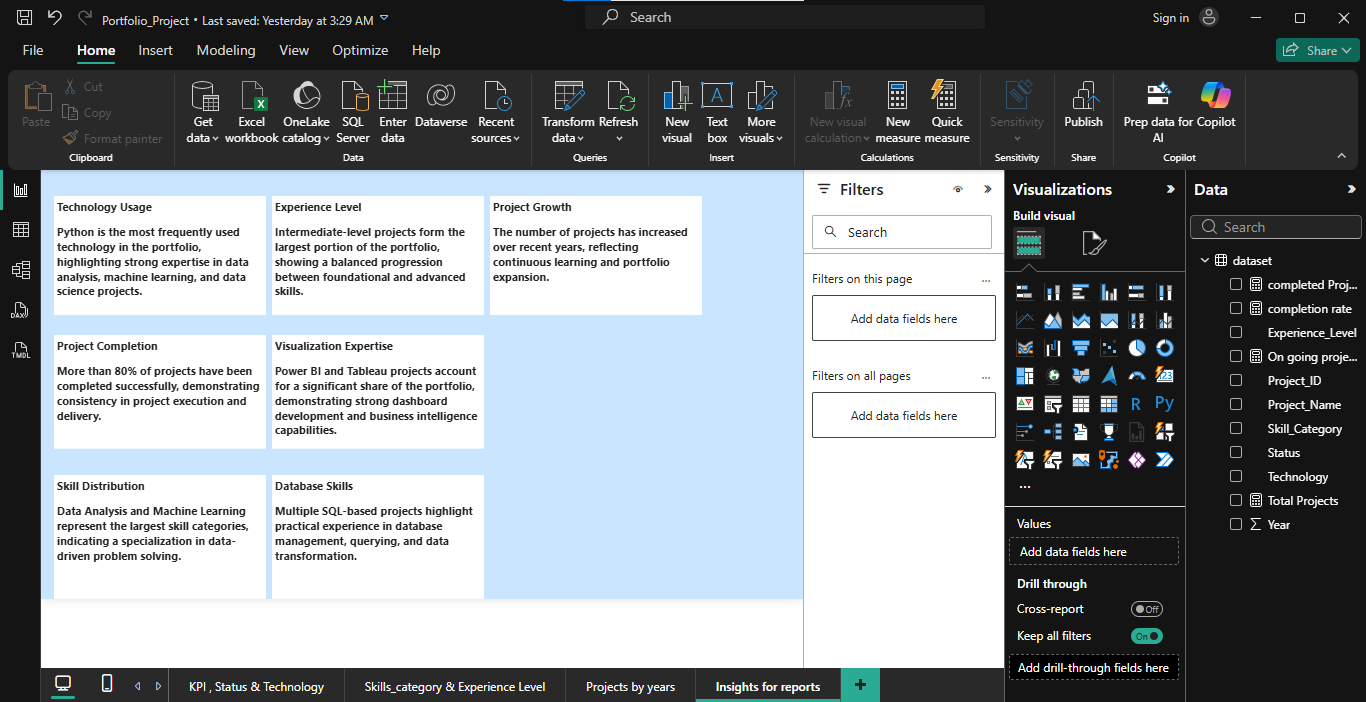

Layout of this report page (visuals, bound fields, positions):
{"tool":"powerbi","page":{"name":"Insights for reports","canvas":[1280,720],"ordinal":3},"visuals":[{"type":"textbox","box":[21.8,43.7,356.1,199.9],"z":0},{"type":"textbox","box":[21.8,277.2,356.1,191.5],"z":1},{"type":"textbox","box":[22,512,356,208],"z":2},{"type":"textbox","box":[388,44,356,200],"z":3},{"type":"textbox","box":[388,277,356,191],"z":4},{"type":"textbox","box":[388,512,356,208],"z":5},{"type":"textbox","box":[754,44,356,200],"z":6}]}

Visuals, with their boxes on the page's 1280x720 design canvas (x1, y1, x2, y2). These are canvas units, not pixel positions in the 1366x702 screenshot, which may show the page scaled, cropped or inside an application window:
textbox: bbox=(22, 44, 378, 244)
textbox: bbox=(22, 277, 378, 469)
textbox: bbox=(22, 512, 378, 720)
textbox: bbox=(388, 44, 744, 244)
textbox: bbox=(388, 277, 744, 468)
textbox: bbox=(388, 512, 744, 720)
textbox: bbox=(754, 44, 1110, 244)
